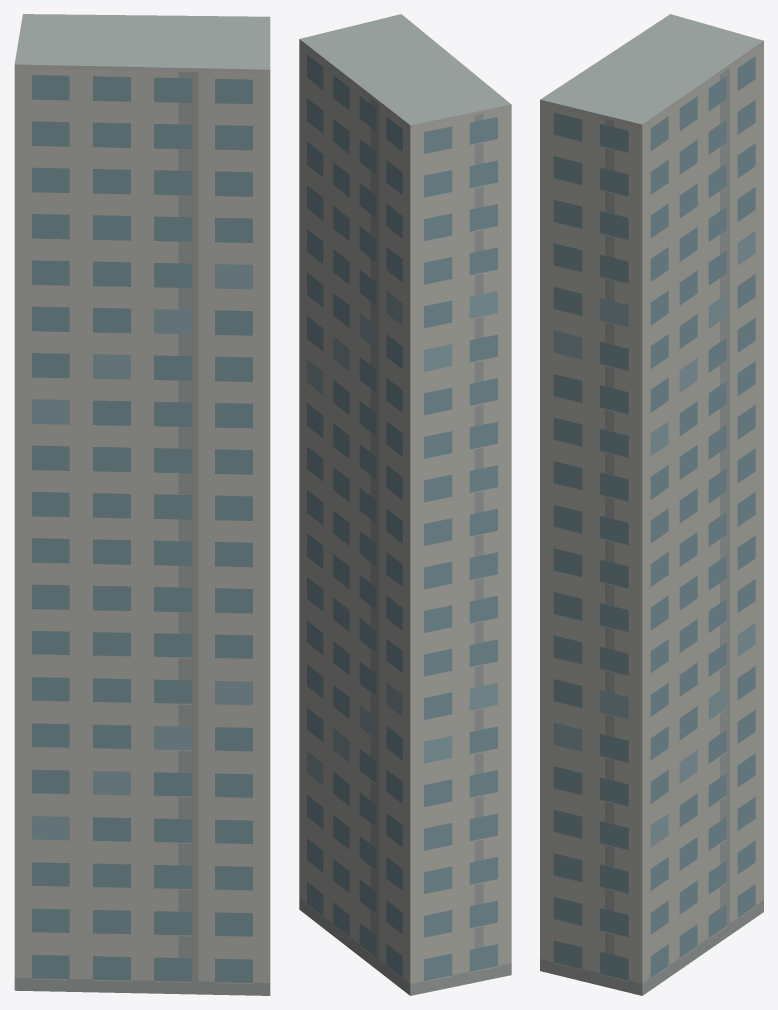
The model's file is survey-upis-32778999.glb.
The picture shows the model from 3 angles, left to right: view 1: azimuth 30°, elevation 25°; view 2: azimuth 150°, elevation 25°; view 3: azimuth 270°, elevation 25°; orthographic projection. The views are drawn at different scales.
Visible parts, largest first — view 1: survey-upis-32778999.tmp; view 2: survey-upis-32778999.tmp; view 3: survey-upis-32778999.tmp.
Boxes of the visible parts, <box> form: survey-upis-32778999.tmp: <box>14,14,270,995</box>; survey-upis-32778999.tmp: <box>299,14,511,995</box>; survey-upis-32778999.tmp: <box>540,14,763,995</box>.
Bounding box in the file's own units: 16.6 × 61 × 14.2.
